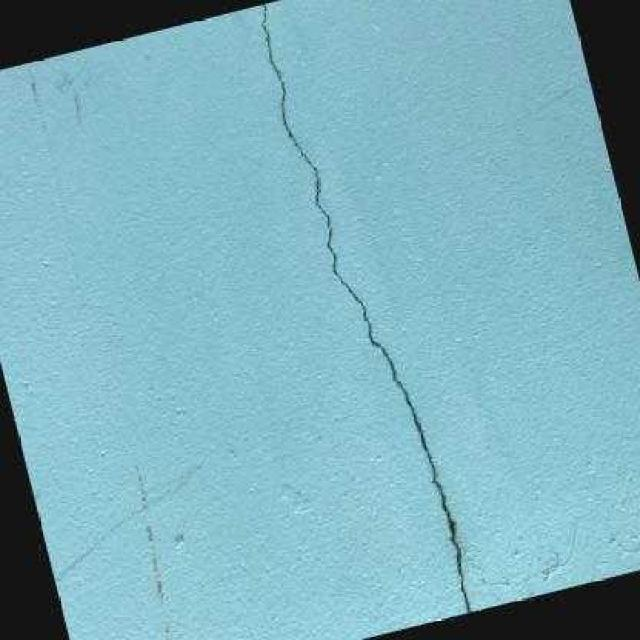D00: (260, 4, 472, 614)
